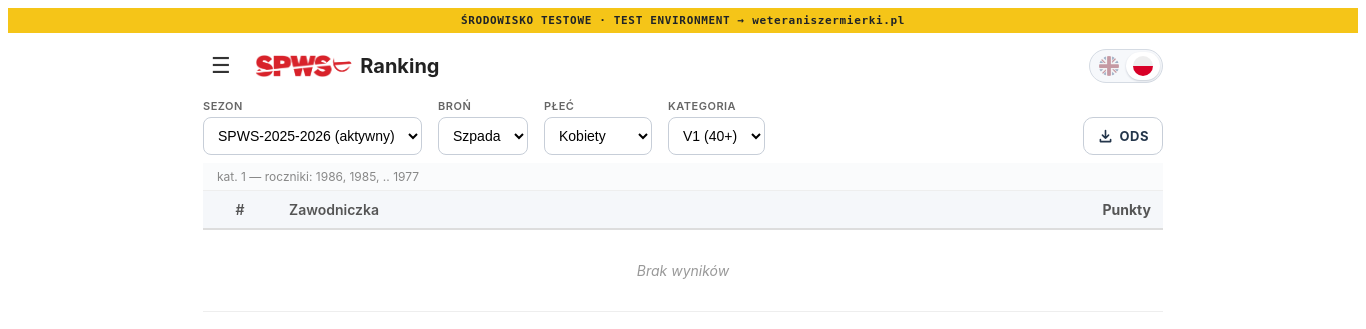
Scenario: Birth Year Subtitle (BY.1–BY.7) › updates birth years when season changes
Expected: the text with class "category-subtitle" shows "1986, 1985, .. 1977", [217, 169, 419, 184]
// Switch to season 2 (end year 2025)
Step 1. Select "SPWS-2024-2025" in the dropdown with class "season-select" → (312, 136), box [203, 117, 422, 155]
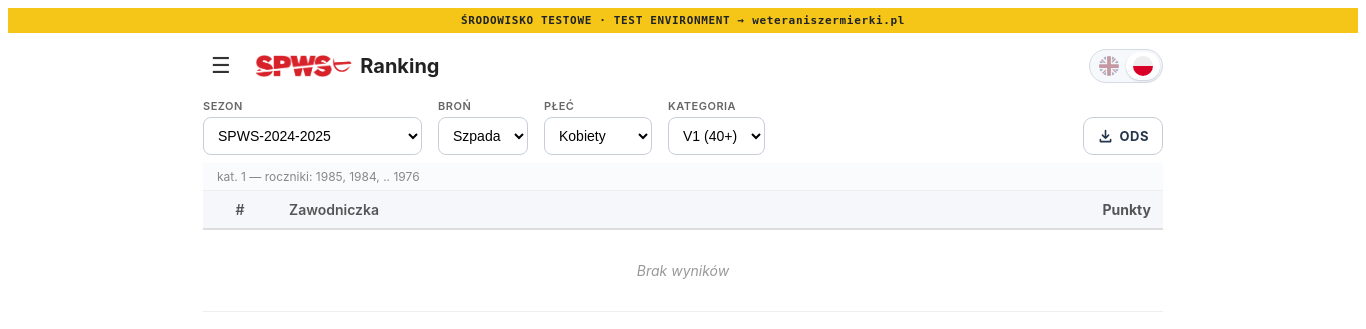
Now the text with class "category-subtitle" shows "1985, 1984, .. 1976", box [217, 169, 420, 184]
